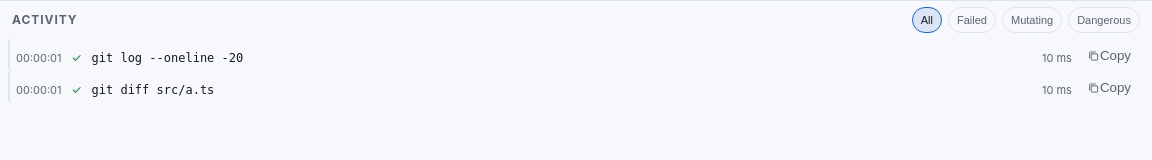
Test: a read verb is not dressed up as a mutation
Click the button "Mutating" at (1032, 20), box [1002,7,1062,33]
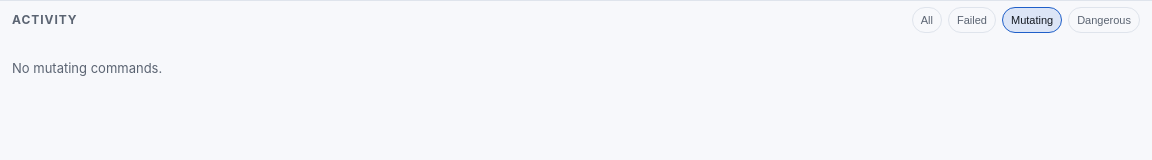
expect the text "No mutating commands." is shown: met, box [12,60,162,76]
